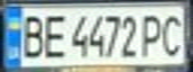2: (118, 11, 142, 58)
4: (66, 10, 90, 58), (87, 11, 109, 58)
7: (103, 11, 124, 58)
B: (15, 10, 48, 60)
C: (157, 10, 187, 57)
E: (39, 11, 69, 60)
P: (139, 11, 169, 58)
